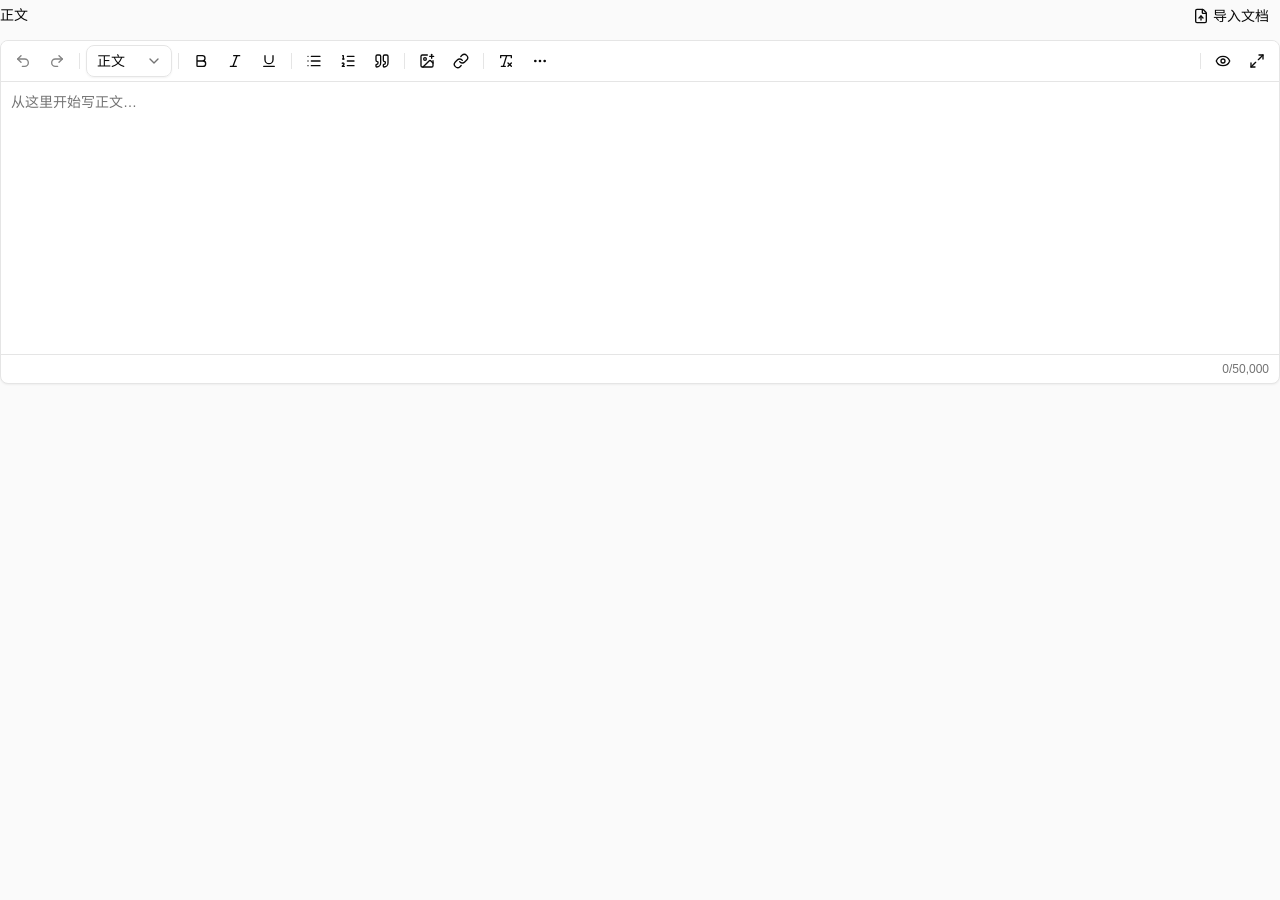
Test case: inserts a URL at the cursor and rejects unsafe link addresses
Click the button named "链接". click: (461, 61)
box: [445,45,477,77]
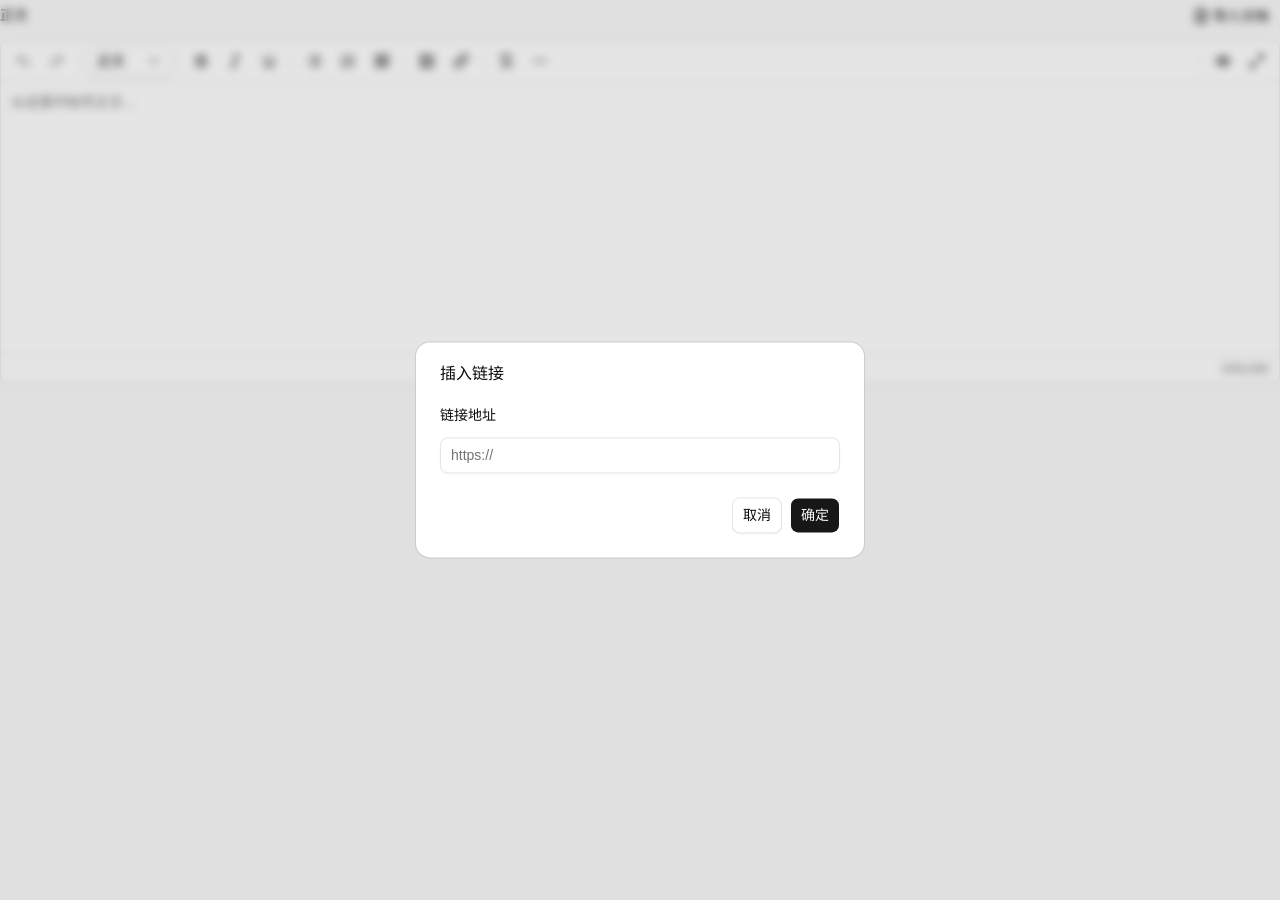
Type "javascript:alert(1)" into the field labelled "链接地址". click: (640, 456)
box: [440,438,840,474]
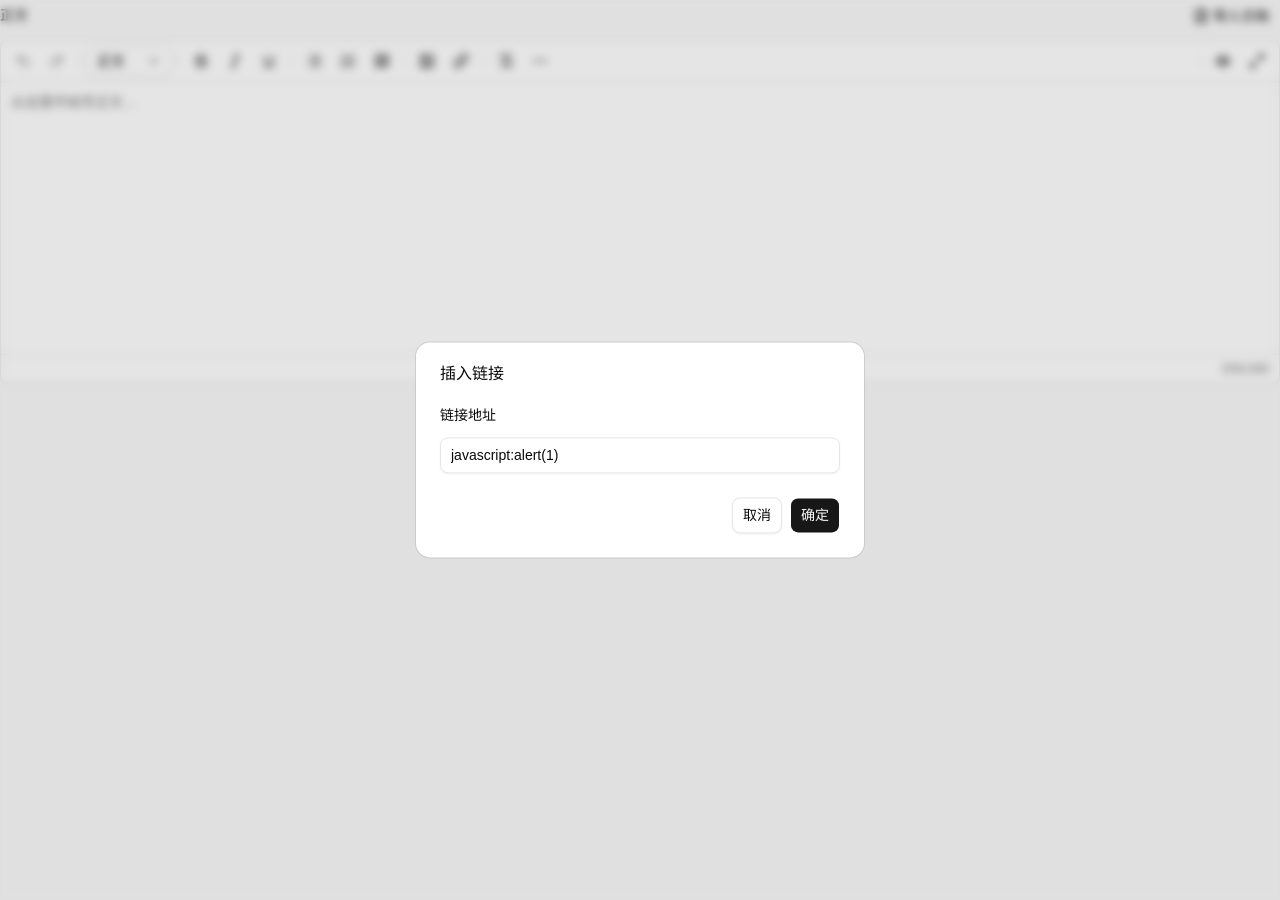
Click the button "确定". click: (815, 516)
box: [790,498,840,534]
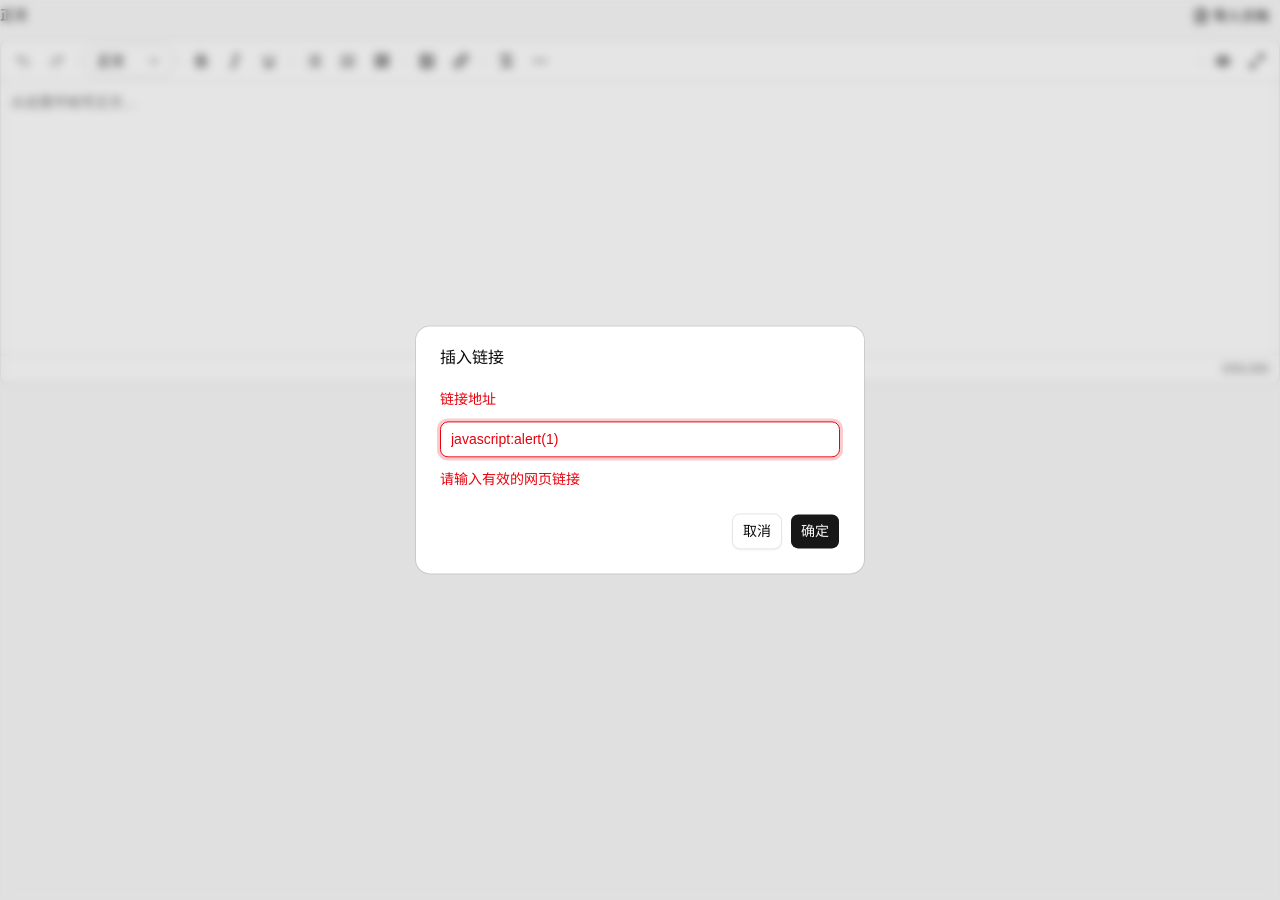
Now the message reads "请输入有效的网页链接", box [440,472,580,488]
Replace the text in the field labelled "链接地址" with "https://example.com". click: (640, 440)
box: [440,422,840,458]
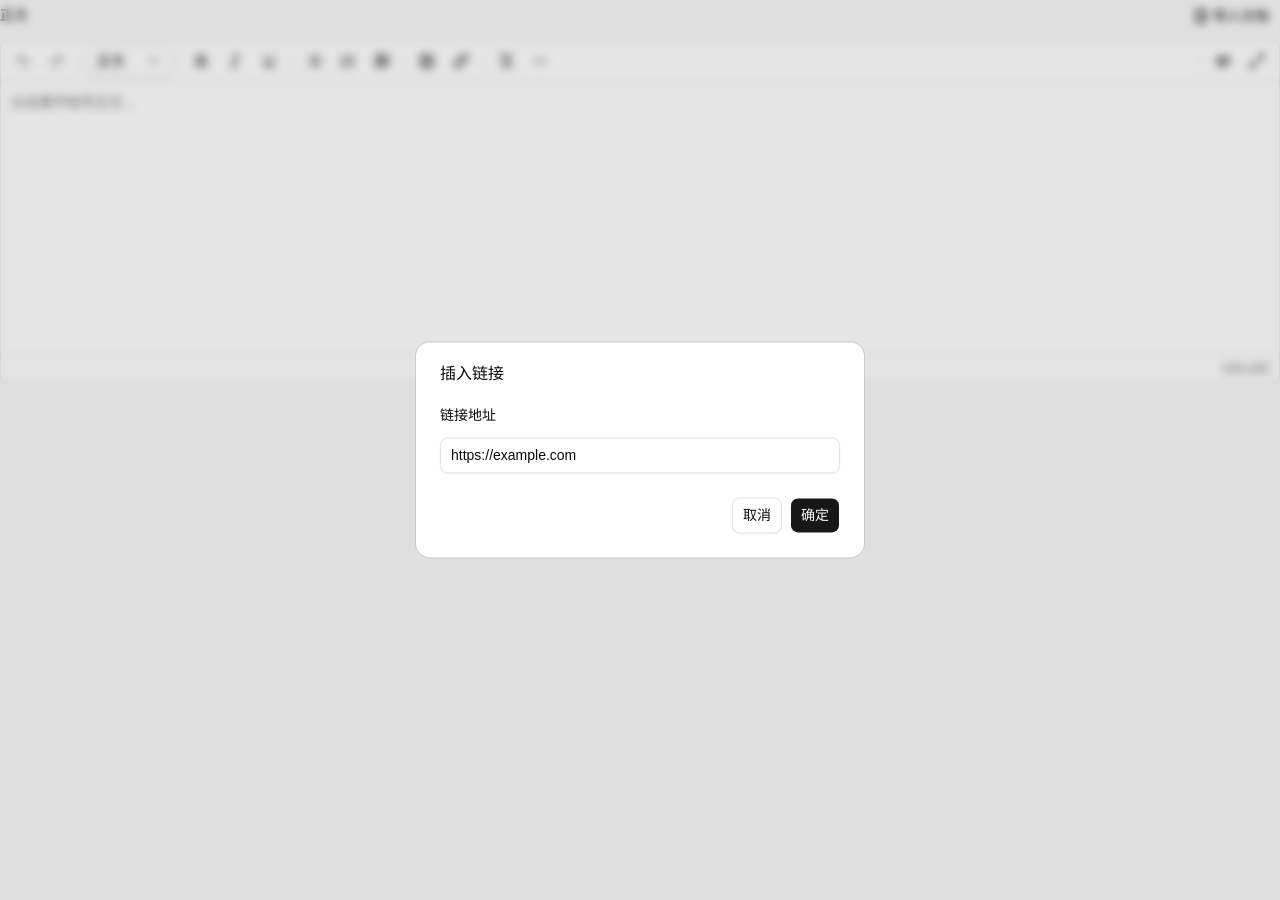
Click the button "确定". click: (815, 516)
box: [790,498,840,534]
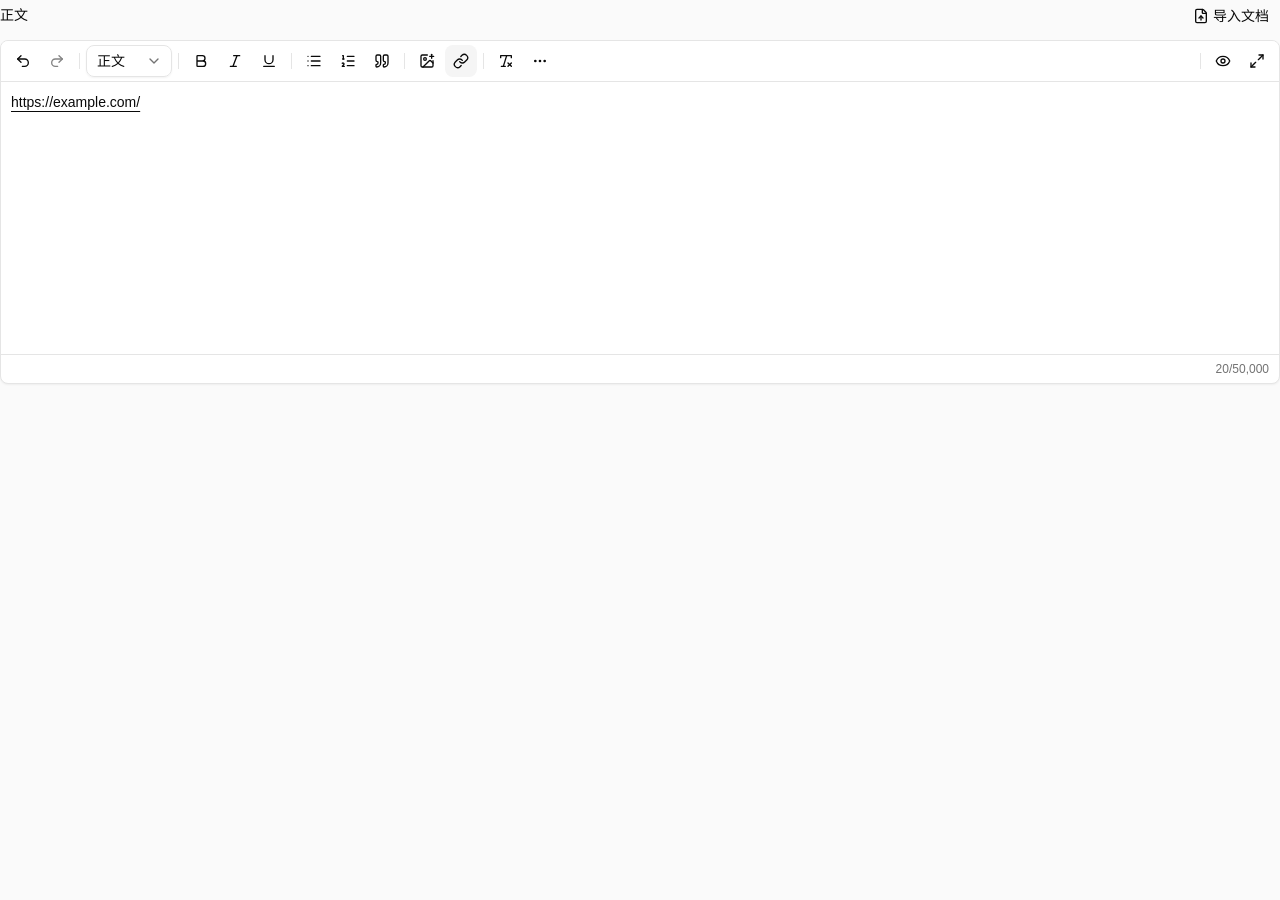
Now the link "https://example.com/" is shown, box [11,94,140,110]
